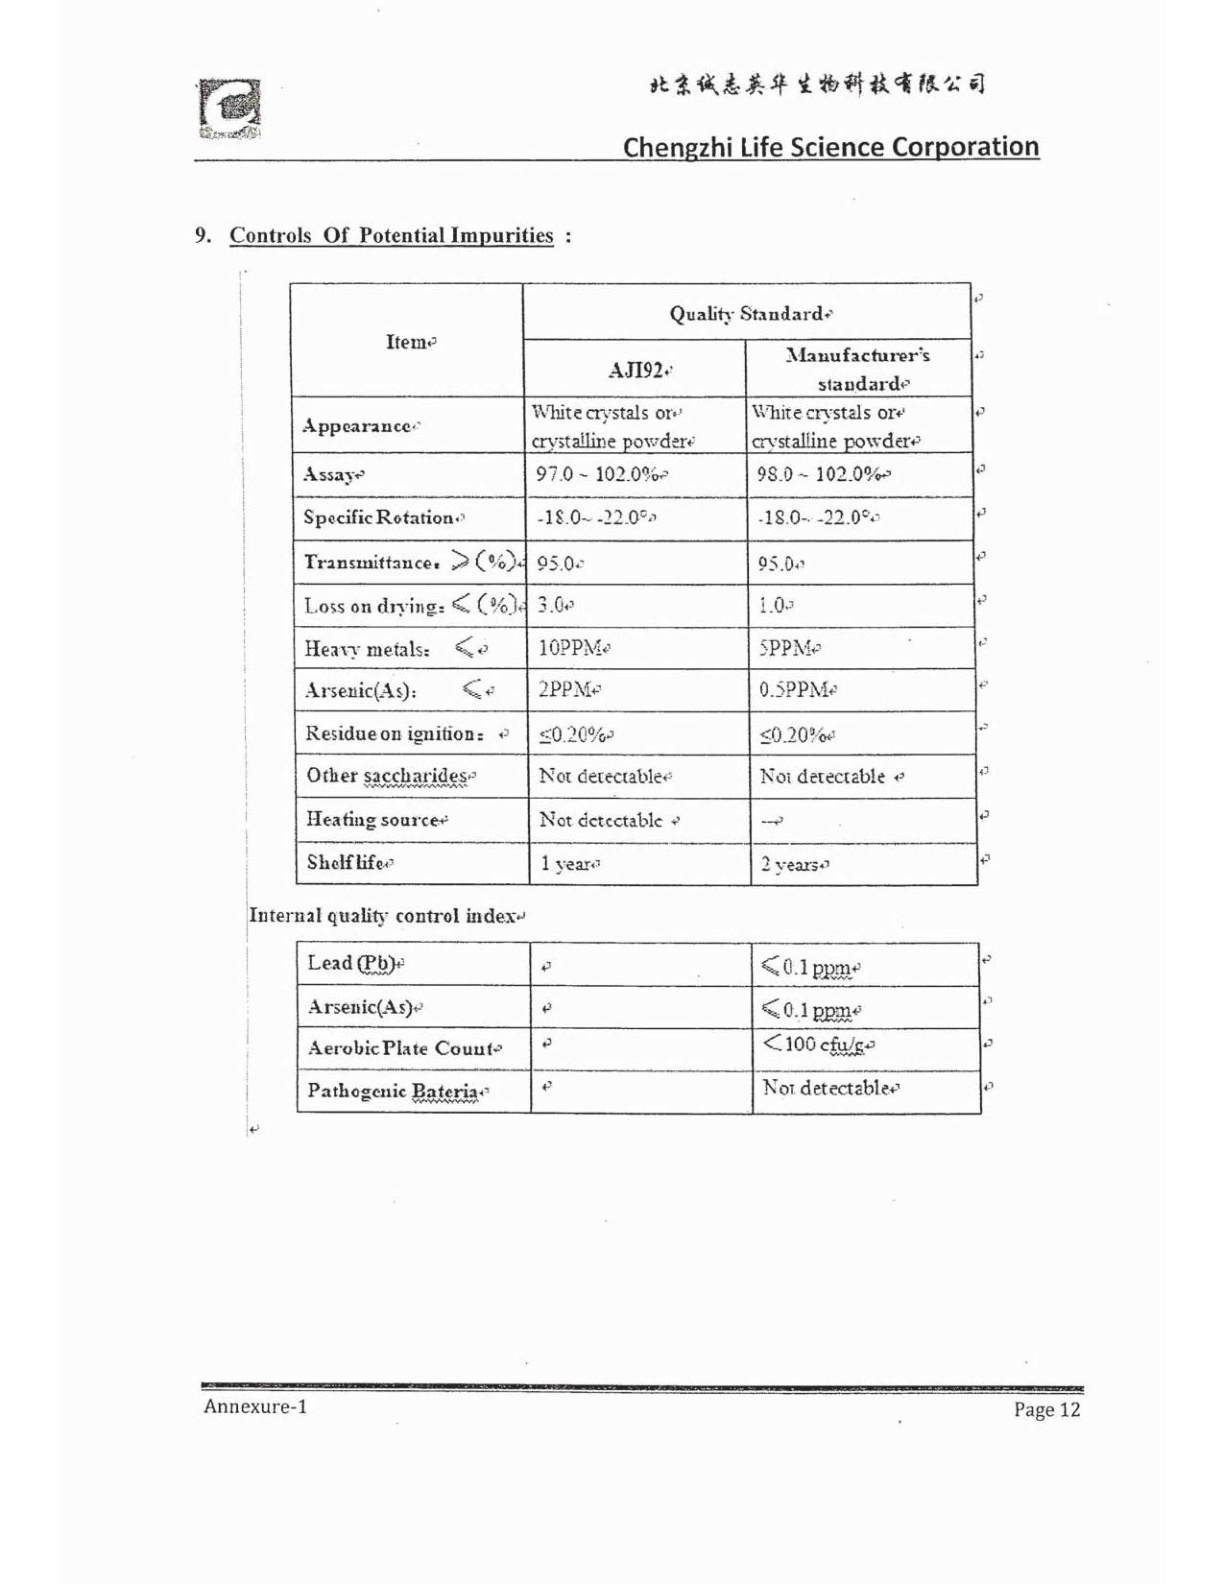full_lined: (293, 938, 982, 1116)
merged_cells: (287, 280, 981, 888)
